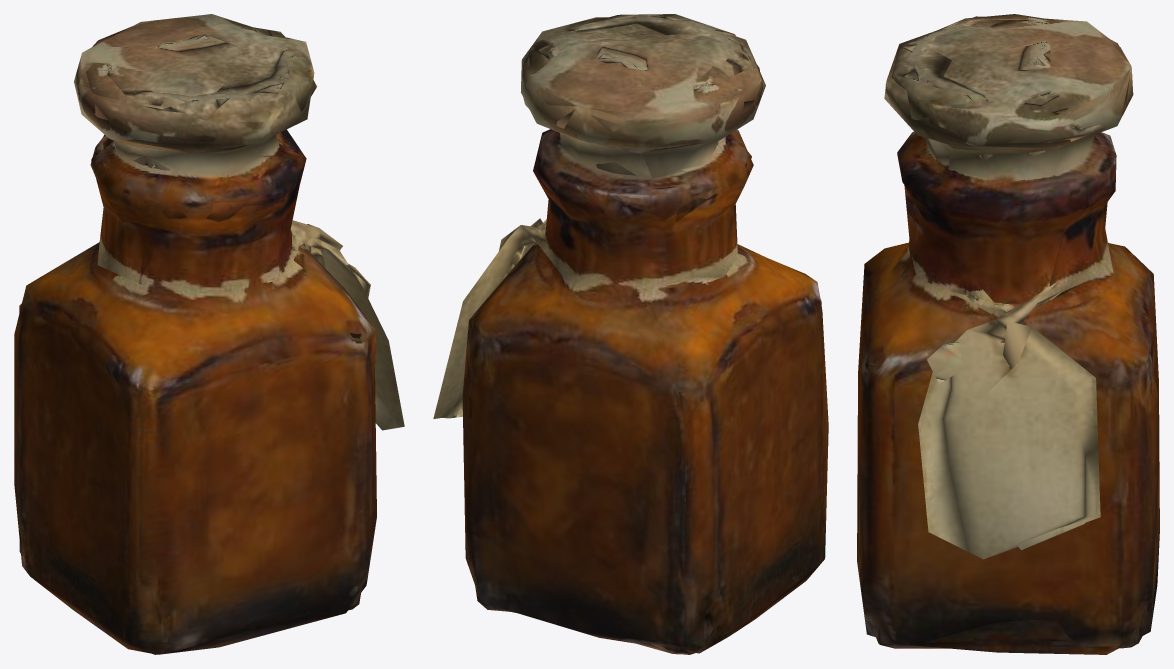
The model's file is salts.glb.
The picture shows the model from 3 angles, left to right: view 1: azimuth 30°, elevation 25°; view 2: azimuth 150°, elevation 25°; view 3: azimuth 270°, elevation 25°; orthographic projection. The views are drawn at different scales.
Parts seen in each view (by area): view 1: Mesh_0; view 2: Mesh_0; view 3: Mesh_0.
Part boxes in pixels (x1=…): Mesh_0: x1=14, y1=14, x2=404, y2=654; Mesh_0: x1=433, y1=14, x2=828, y2=654; Mesh_0: x1=857, y1=14, x2=1159, y2=654.
Size of the model in its own units: 0.5813 by 0.9894 by 0.4918.
1 material, 1 textured.
